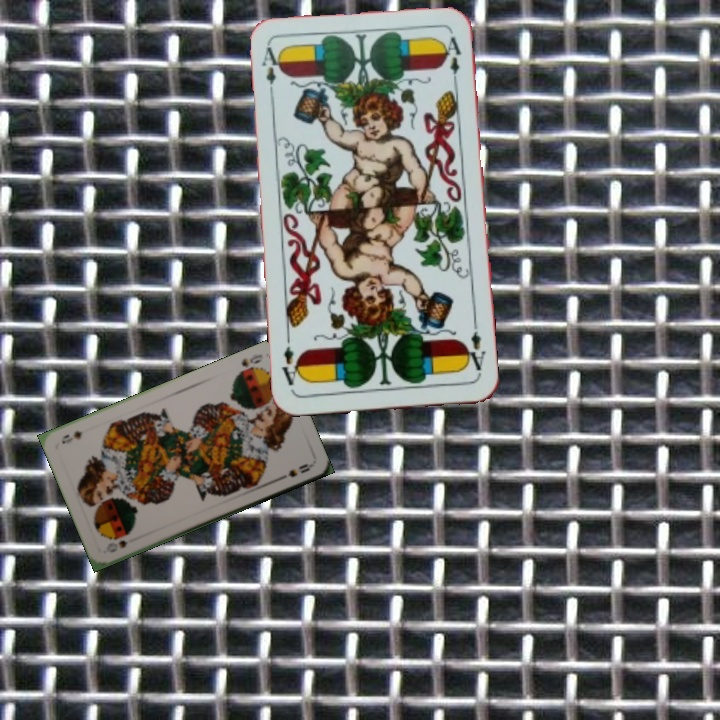EA: (461, 319, 489, 378), (258, 43, 285, 101)
SO: (235, 350, 265, 376), (102, 536, 129, 555)
